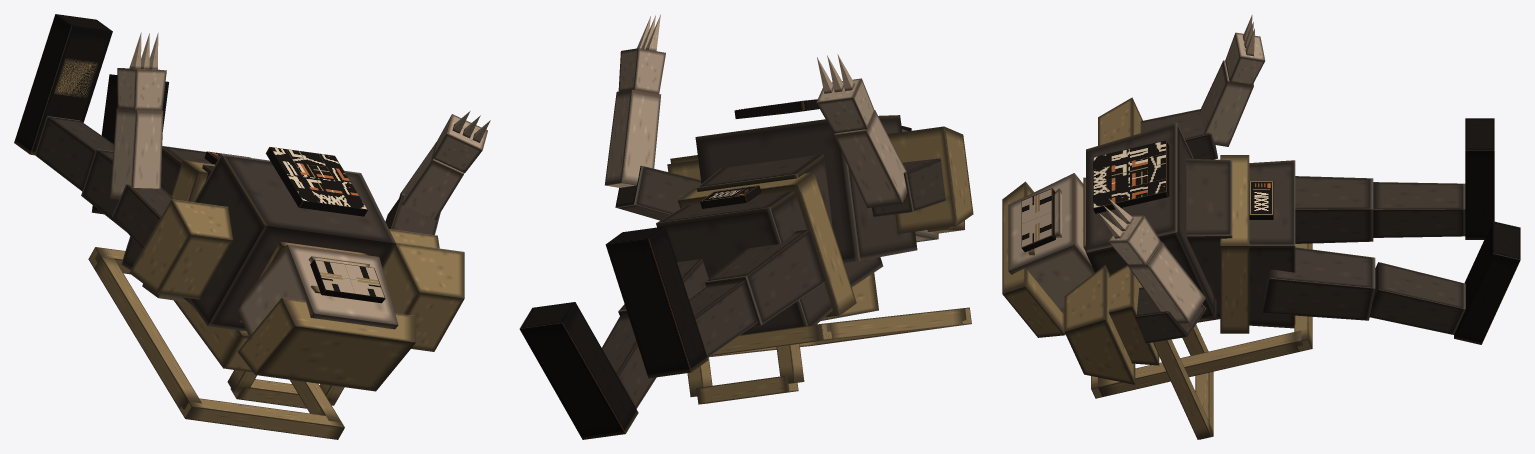
The model's file is jurisiel_hurt.obj.
The picture shows the model from 3 angles, left to right: view 1: azimuth 30°, elevation 25°; view 2: azimuth 150°, elevation 25°; view 3: azimuth 270°, elevation 25°; orthographic projection. The views are drawn at different scales.
Parts seen in each view (by area): view 1: jurisiel_hurt; view 2: jurisiel_hurt; view 3: jurisiel_hurt.
Part boxes in pixels (x1=…): jurisiel_hurt: x1=14, y1=14, x2=490, y2=439; jurisiel_hurt: x1=519, y1=14, x2=973, y2=439; jurisiel_hurt: x1=1002, y1=15, x2=1520, y2=439.
Bounding box in the file's own units: 0.7289 × 0.8075 × 1.06.
Materials: 1 (1 with a texture image).
